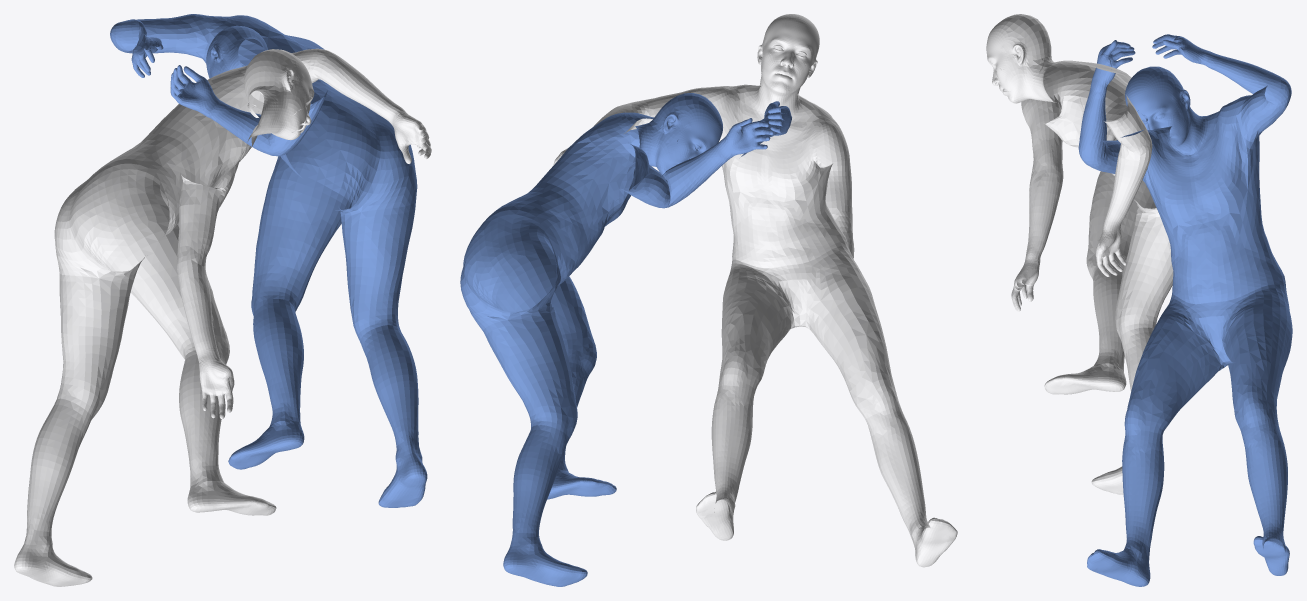
The model's file is hip-throw-1-clinch.glb.
3 renders of one model, left to right at view 1: azimuth 30°, elevation 25°; view 2: azimuth 150°, elevation 25°; view 3: azimuth 270°, elevation 25°, orthographic. The views are drawn at different scales.
Parts seen in each view (by area): view 1: p0, p1; view 2: p0, p1; view 3: p1, p0.
Part boxes in pixels (left/top/right/bottom): p0: left=14, top=48, right=431, bottom=586; p1: left=110, top=14, right=427, bottom=507; p0: left=553, top=14, right=957, bottom=567; p1: left=460, top=93, right=791, bottom=586; p1: left=1078, top=34, right=1292, bottom=586; p0: left=986, top=14, right=1173, bottom=494.
Size of the model in its own units: 1.35 by 1.55 by 0.8823.
